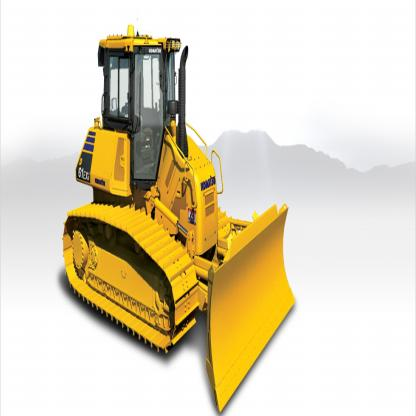bull_dozer/loader/grader: (52, 16, 296, 414)
